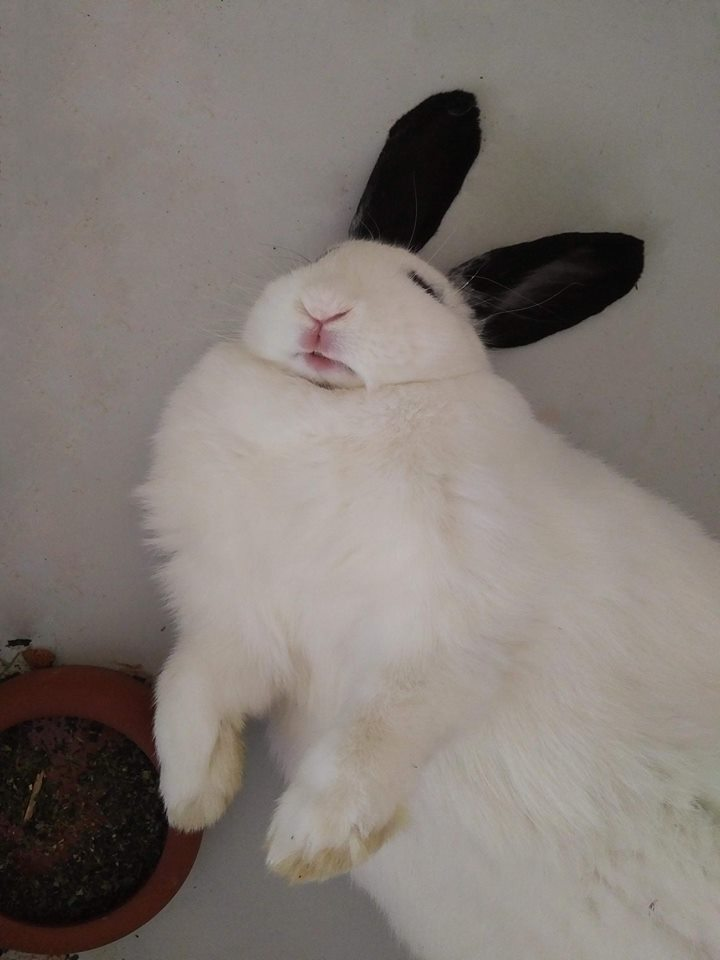bunny: (130, 72, 720, 958)
